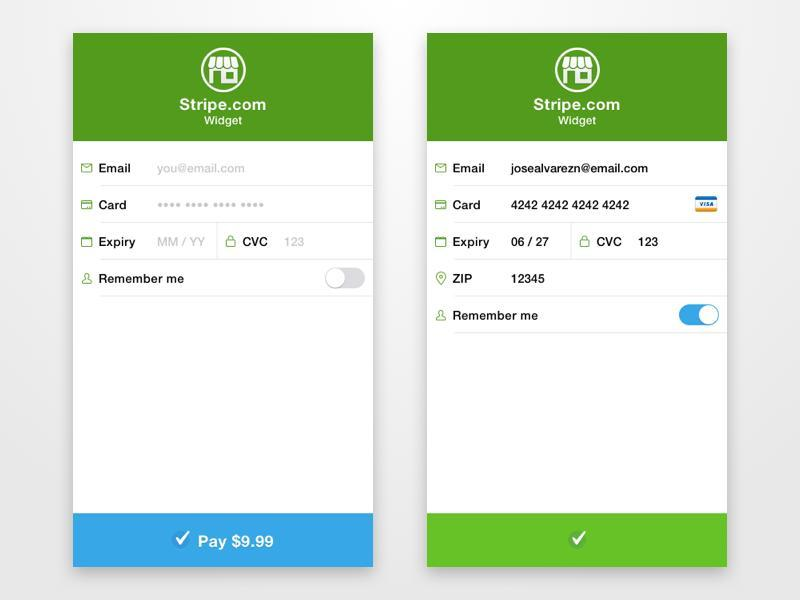button: (72, 512, 376, 571), (426, 512, 730, 571)
icon: (78, 272, 96, 287), (432, 162, 450, 177), (79, 236, 95, 251), (435, 235, 449, 251), (81, 200, 96, 212), (437, 271, 448, 286), (81, 162, 93, 175), (435, 310, 447, 323), (435, 200, 449, 211)
label: (512, 162, 653, 178), (512, 197, 632, 211), (453, 308, 543, 326), (100, 273, 186, 287), (509, 271, 550, 289), (452, 234, 494, 251), (510, 236, 551, 251), (100, 236, 138, 251), (453, 162, 487, 176), (100, 162, 132, 175), (452, 271, 478, 287), (241, 236, 270, 250), (453, 199, 484, 212), (98, 200, 130, 212), (638, 234, 661, 248), (595, 237, 624, 248)
switch: (325, 268, 367, 292), (679, 303, 720, 326)
